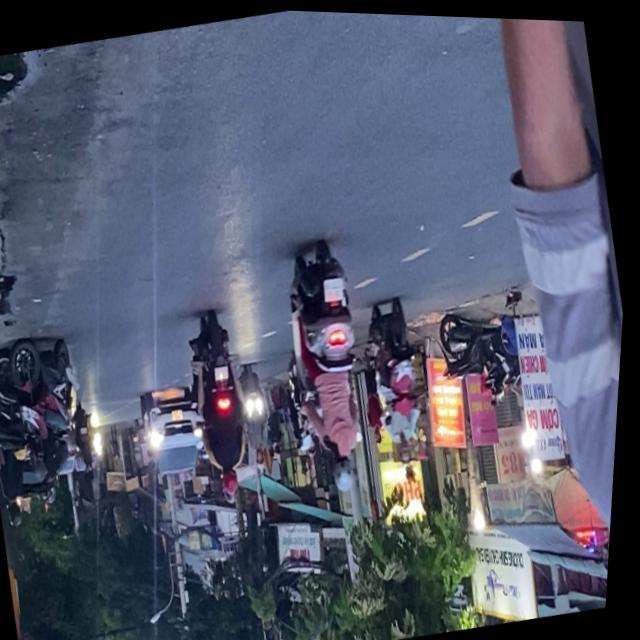helmet: (335, 448, 366, 492), (226, 466, 249, 497)
licenseplate: (270, 232, 397, 499), (178, 305, 272, 502), (358, 291, 445, 467)
motorcyclist: (401, 434, 421, 463)
nohelmet: (325, 275, 350, 301), (219, 364, 235, 381)
